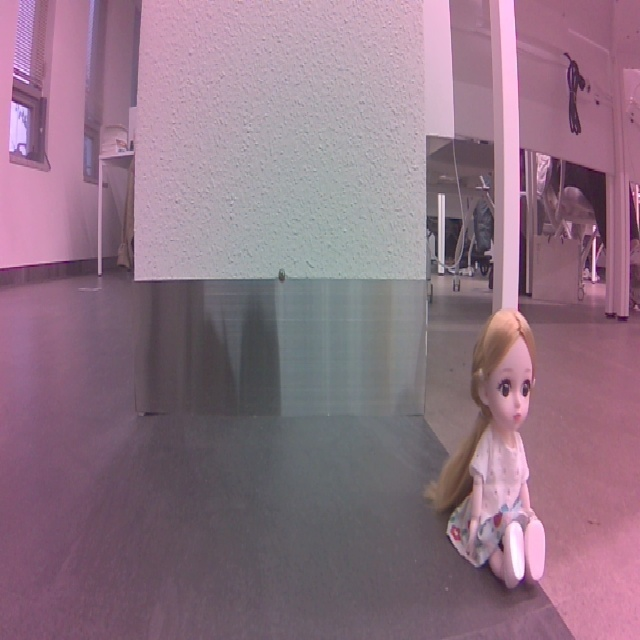장애물: (421, 306, 572, 593)
